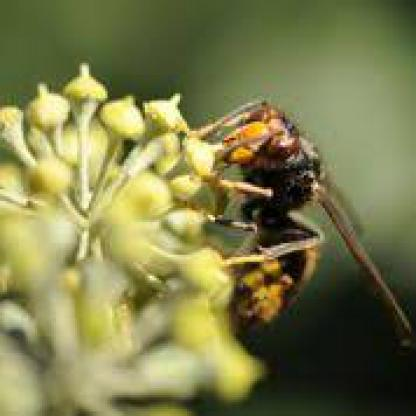asian: (189, 86, 409, 380)
